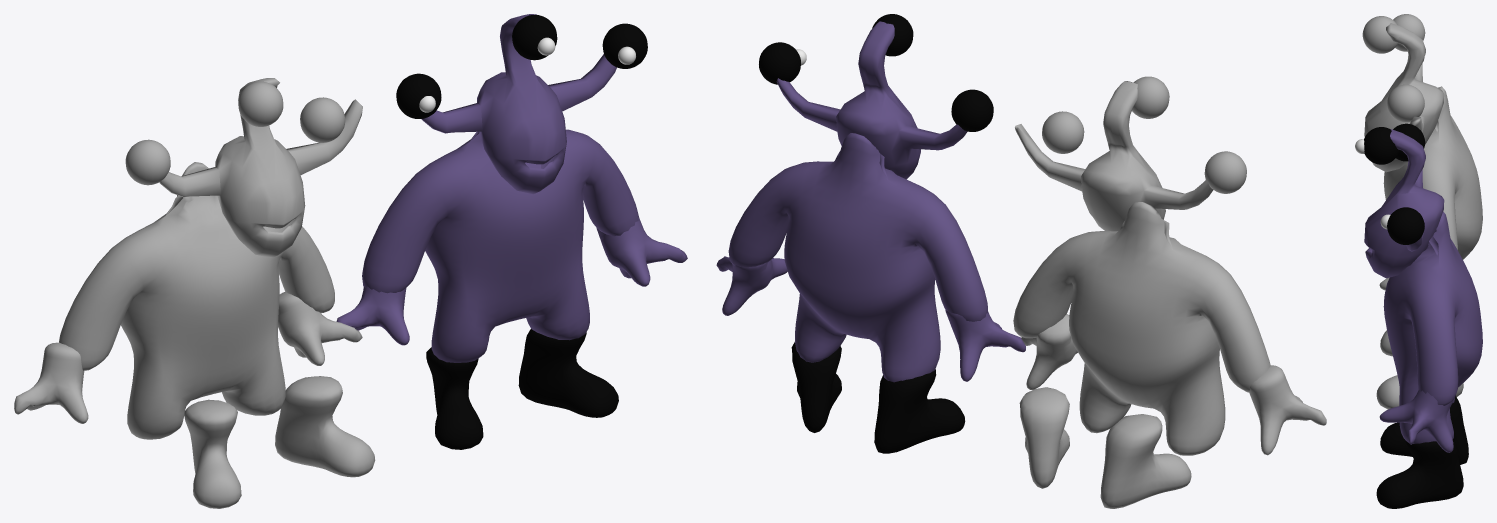
File: Alien1.fbx
3 renders of one model, left to right at view 1: azimuth 30°, elevation 25°; view 2: azimuth 150°, elevation 25°; view 3: azimuth 270°, elevation 25°, orthographic. The views are drawn at different scales.
Parts seen in each view (by area): view 1: body_copy, body, head, head_copy, foot_left_copy, foot_left, foot_right_copy, foot_right, right_hand_copy, left_hand_copy, left_hand, right_hand (+6 smaller); view 2: body_copy, body, head_copy, head, foot_right_copy, foot_right, foot_left_copy, right_hand_copy, foot_left, right_hand, left_hand_copy, left_hand (+6 smaller); view 3: body, body_copy, head, foot_left, head_copy, left_hand, foot_right, eye1, eye_copy3, eye3, eye_copy2, foot_left_copy (+3 smaller).
Boxes of the visible parts, box(x1,y1,x2,y2) form: body_copy: box(59, 162, 334, 439); body: box(362, 129, 638, 362); head: box(421, 14, 616, 194); head_copy: box(159, 78, 362, 257); foot_left_copy: box(275, 376, 375, 477); foot_left: box(518, 329, 618, 417); foot_right_copy: box(184, 399, 241, 508); foot_right: box(426, 347, 483, 449); right_hand_copy: box(14, 342, 88, 423); left_hand_copy: box(278, 292, 362, 365); left_hand: box(596, 218, 687, 286); right_hand: box(336, 286, 409, 345); body_copy: box(1013, 202, 1270, 455); body: box(728, 133, 987, 382); head_copy: box(1015, 81, 1213, 231); head: box(776, 21, 967, 179); foot_right_copy: box(1100, 414, 1191, 508); foot_right: box(874, 369, 965, 453); foot_left_copy: box(1019, 387, 1069, 488); right_hand_copy: box(1249, 365, 1326, 455); foot_left: box(791, 342, 841, 432); right_hand: box(945, 310, 1025, 381); left_hand_copy: box(1021, 314, 1077, 389); left_hand: box(716, 256, 787, 315); body: box(1383, 211, 1482, 443); body_copy: box(1383, 86, 1482, 259); head: box(1364, 129, 1444, 278); foot_left: box(1376, 439, 1463, 508); head_copy: box(1364, 23, 1444, 172); left_hand: box(1379, 390, 1453, 452); foot_right: box(1380, 396, 1468, 464); eye1: box(1387, 207, 1424, 244); eye_copy3: box(1387, 84, 1424, 122); eye3: box(1364, 127, 1399, 164); eye_copy2: box(1362, 16, 1397, 53); foot_left_copy: box(1376, 375, 1463, 409).
Size of the model in its own units: 16.81 by 10.3 by 3.38.
